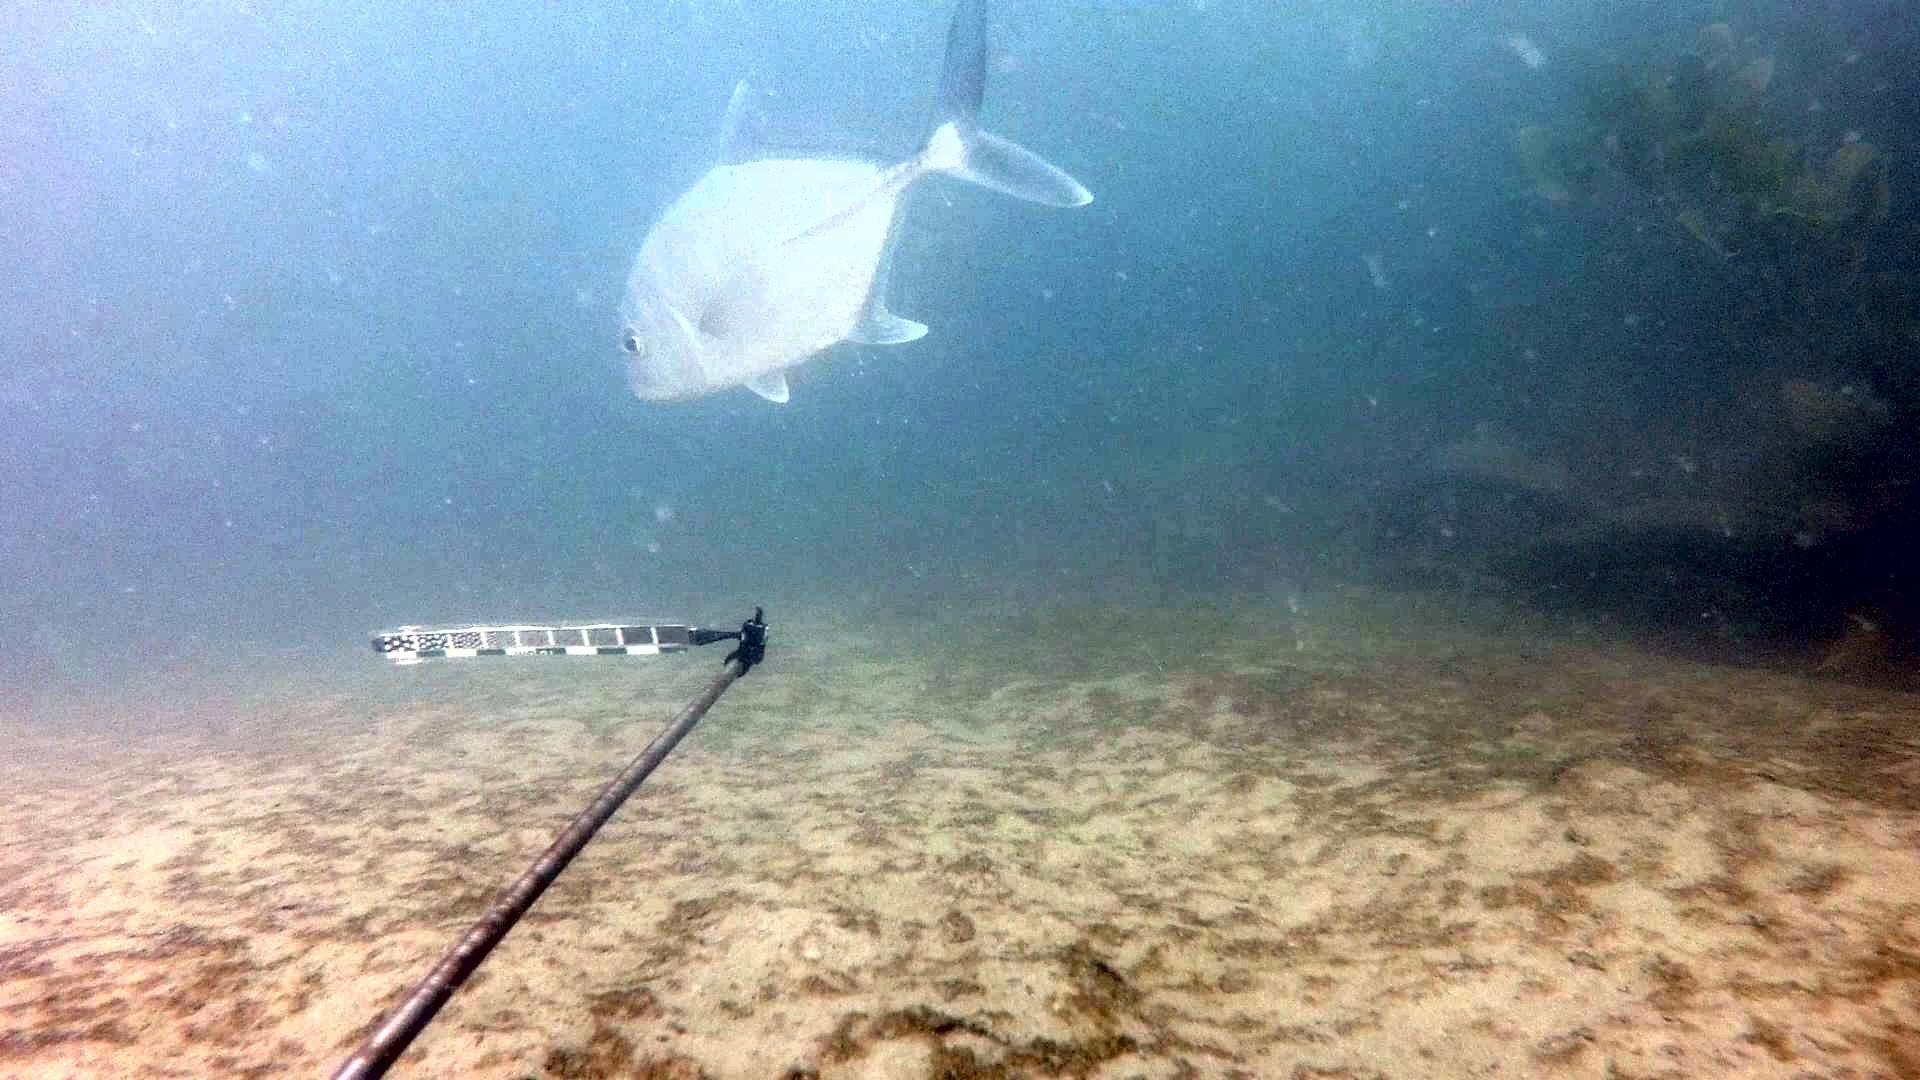caranx: (595, 10, 1104, 421)
